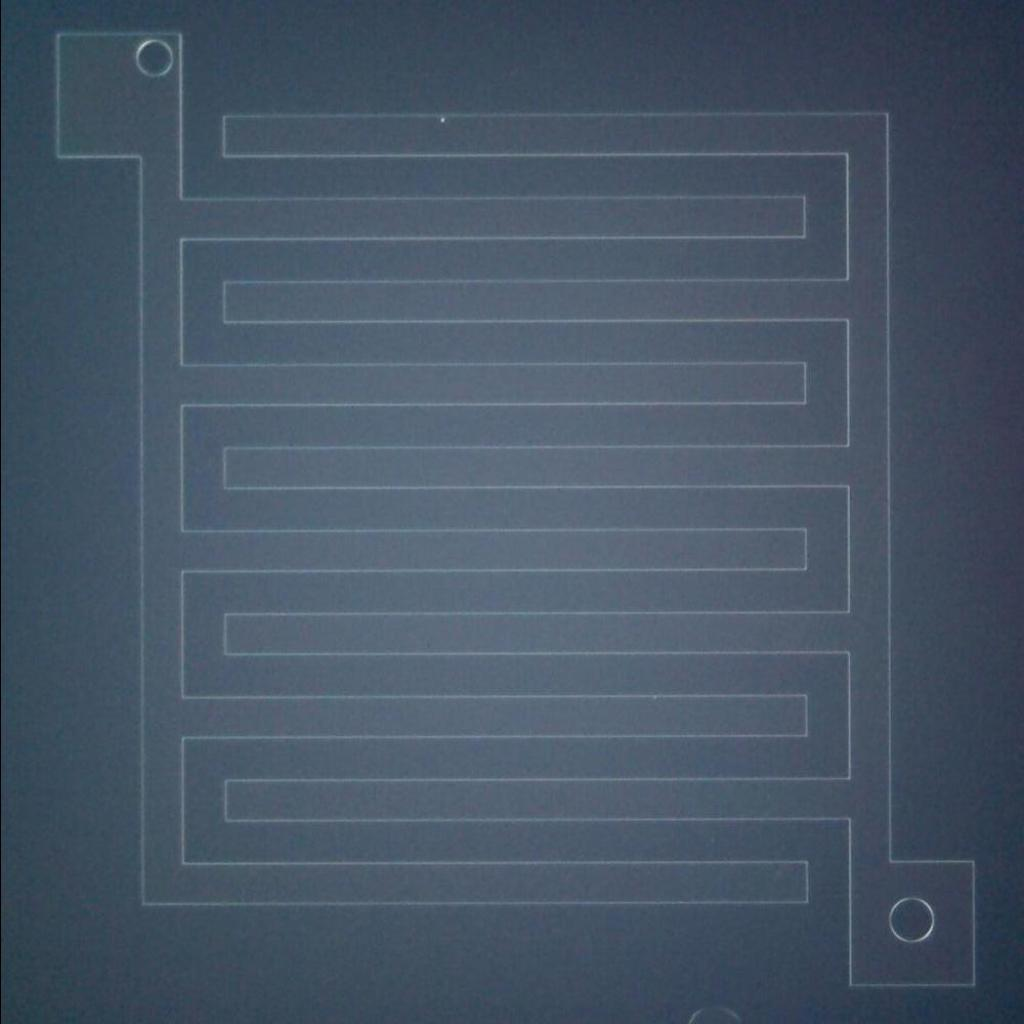circle: (886, 894, 938, 945), (133, 40, 175, 82)
